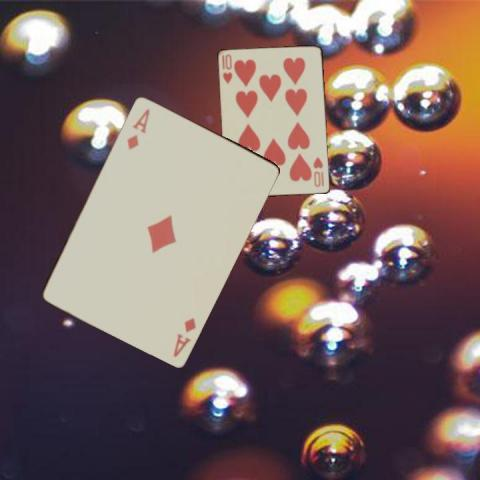10h: (219, 52, 234, 85), (311, 154, 325, 189)
Ad: (123, 106, 152, 152), (170, 314, 197, 358)
